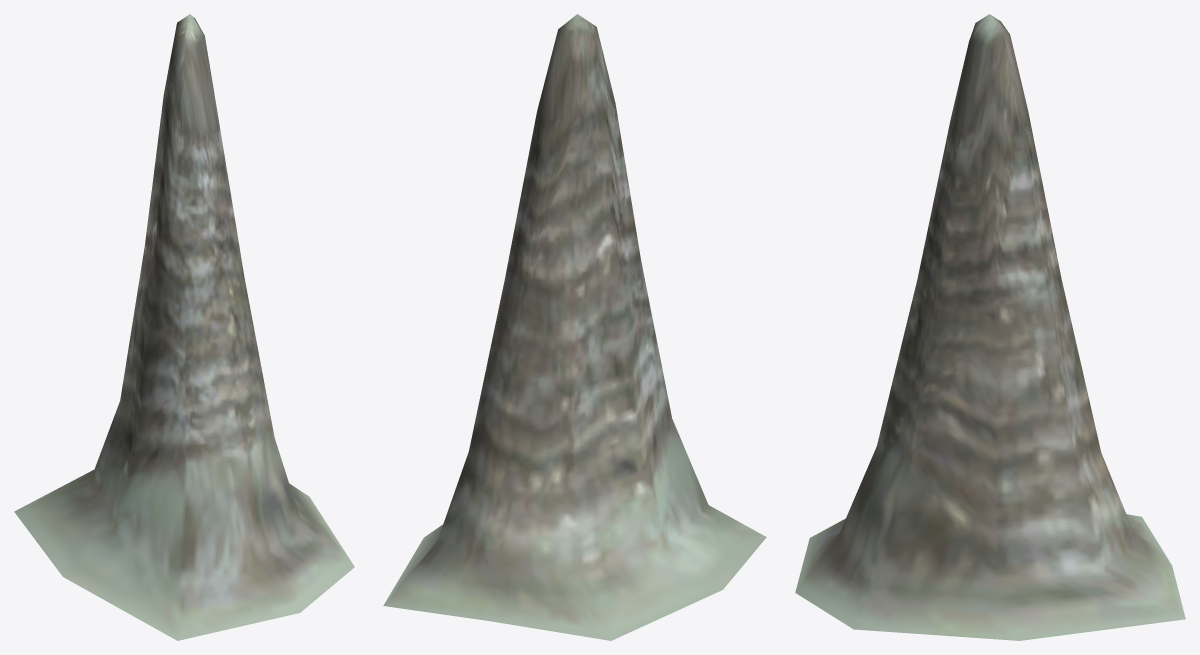
File: TROLLHOLE02_PS-UPPERSTALAG20.fbx
The picture shows the model from 3 angles, left to right: view 1: azimuth 30°, elevation 25°; view 2: azimuth 150°, elevation 25°; view 3: azimuth 270°, elevation 25°; orthographic projection. The views are drawn at different scales.
Visible parts, largest first — view 1: TROLLHOLE02_PS-UPPERSTALAG20; view 2: TROLLHOLE02_PS-UPPERSTALAG20; view 3: TROLLHOLE02_PS-UPPERSTALAG20.
Boxes of the visible parts, left/top/right/bottom form: TROLLHOLE02_PS-UPPERSTALAG20: left=14, top=14, right=354, bottom=640; TROLLHOLE02_PS-UPPERSTALAG20: left=383, top=14, right=766, bottom=640; TROLLHOLE02_PS-UPPERSTALAG20: left=795, top=14, right=1185, bottom=640.
Bounding box in the file's own units: 11542 × 22351 × 13777.
1 material, 1 textured.
